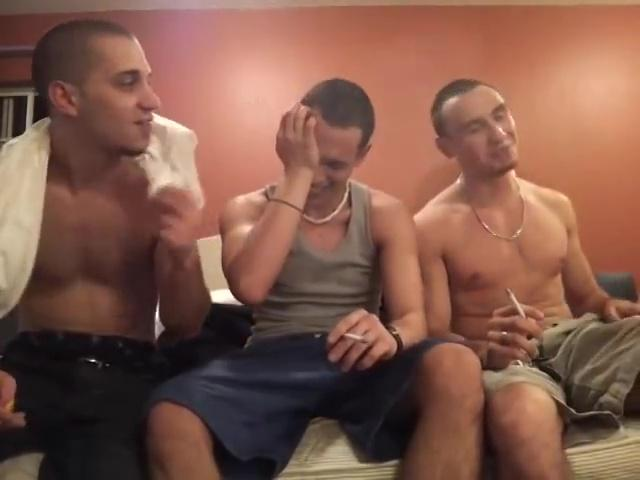cigarette: (506, 287, 528, 320), (342, 331, 371, 346)
